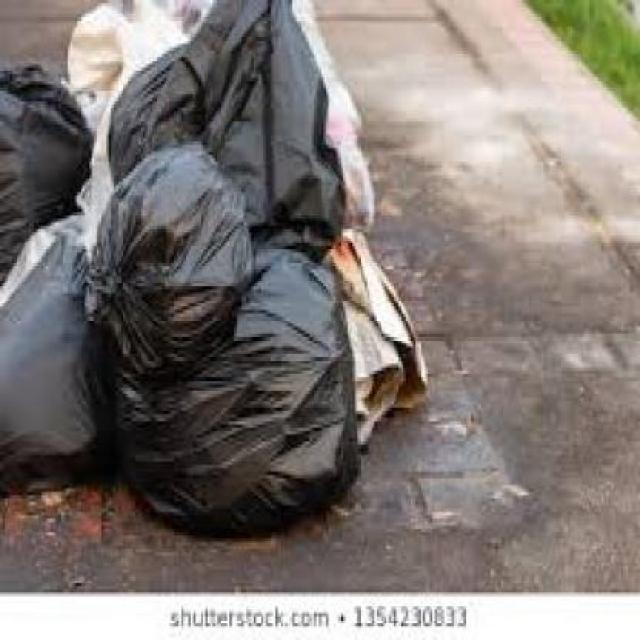garbage: (0, 0, 458, 544)
